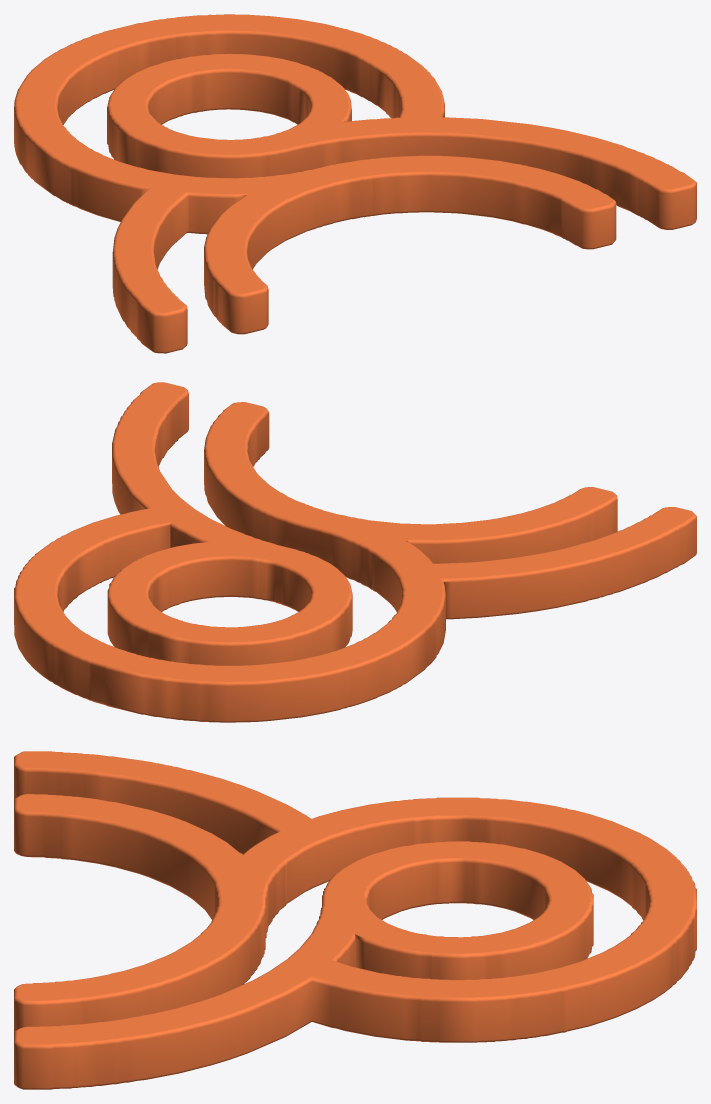
Rendered from Team-iT(New).glb.
3 views of the same model, one above another, from view 1: azimuth 30°, elevation 25°; view 2: azimuth 150°, elevation 25°; view 3: azimuth 270°, elevation 25° (orthographic). The views are drawn at different scales.
Parts seen in each view (by area): view 1: Curve; view 2: Curve; view 3: Curve.
Boxes of the visible parts, left/top/right/bottom form: Curve: left=14, top=14, right=696, bottom=353; Curve: left=14, top=382, right=696, bottom=722; Curve: left=14, top=751, right=696, bottom=1089.
Size of the model in its own units: 16.03 by 1.14 by 15.63.
